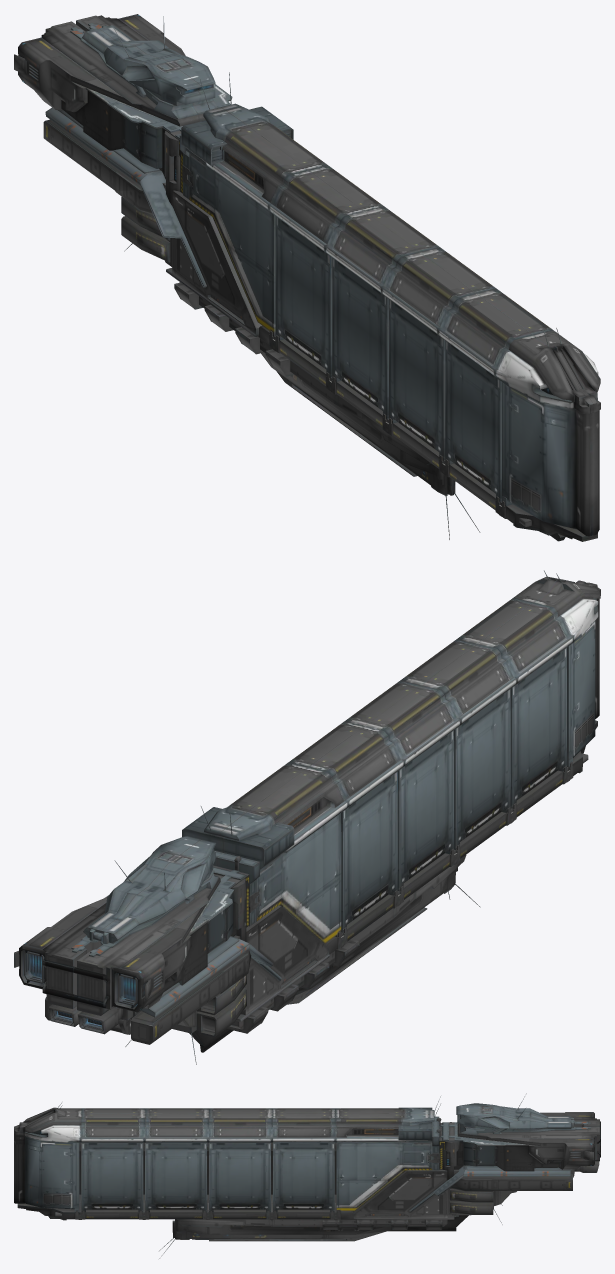
File: 649_lite.glb
3 renders of one model, top to bottom at view 1: azimuth 30°, elevation 25°; view 2: azimuth 150°, elevation 25°; view 3: azimuth 270°, elevation 25°, orthographic. The views are drawn at different scales.
Parts seen in each view (by area): view 1: ship; view 2: ship; view 3: ship.
Part boxes in pixels (<box>): ship: <box>14,14,600,541</box>; ship: <box>14,570,600,1064</box>; ship: <box>14,1093,600,1258</box>.
Size of the model in its own units: 1.14 by 2.26 by 7.68.
1 material, 1 textured.
